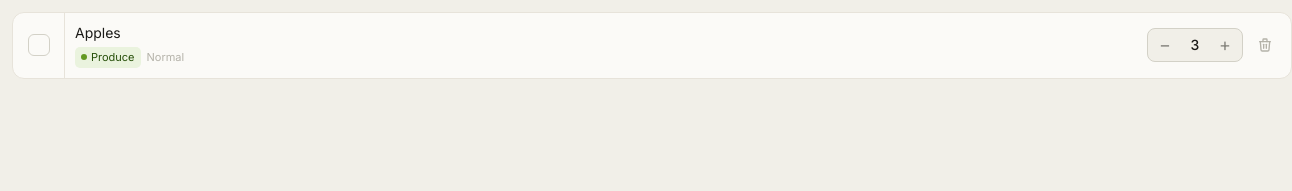
ItemRow › edit → switches to edit mode
This screenshot has width=1292, height=191.
Step 1. Click the text "Apples" → (98, 32), box 75,24 -> 121,41
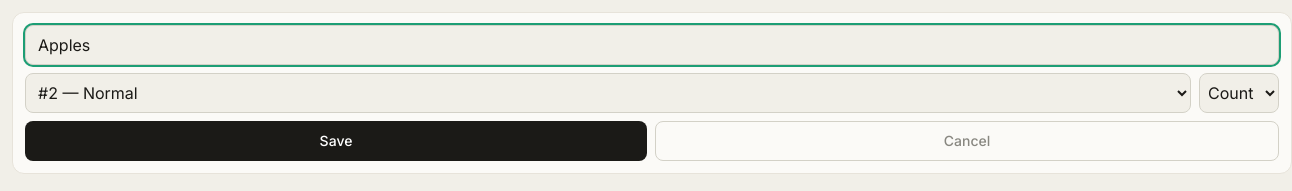
Now the button "Save" is shown, box 25,121 -> 647,161
Now the button "Cancel" is shown, box 655,121 -> 1279,161
